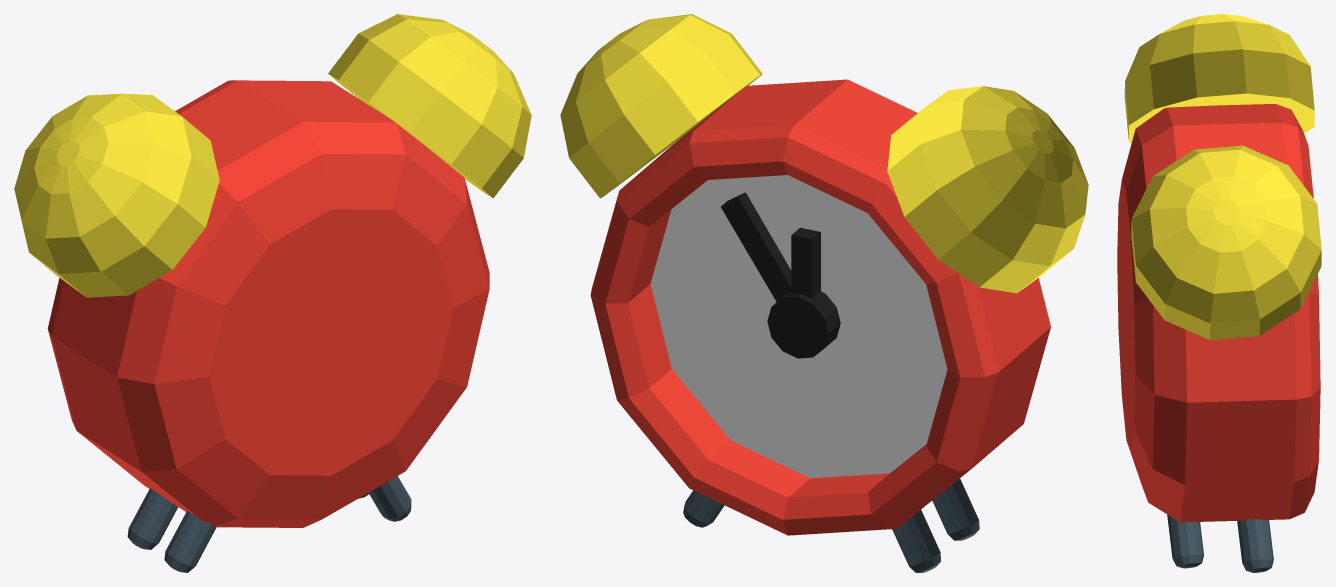
File: group1460745379_lev3.004.glb
3 views of the same model, side by side, from view 1: azimuth 30°, elevation 25°; view 2: azimuth 150°, elevation 25°; view 3: azimuth 270°, elevation 25° (orthographic). The views are drawn at different scales.
Visible parts, largest first — view 1: group1460745379_lev3.004; view 2: group1460745379_lev3.004; view 3: group1460745379_lev3.004.
Boxes of the visible parts, x1=… form: group1460745379_lev3.004: x1=14, y1=14, x2=531, y2=572; group1460745379_lev3.004: x1=560, y1=14, x2=1088, y2=572; group1460745379_lev3.004: x1=1117, y1=14, x2=1321, y2=572.
Size of the model in its own units: 2.19 by 2.02 by 0.8486.
